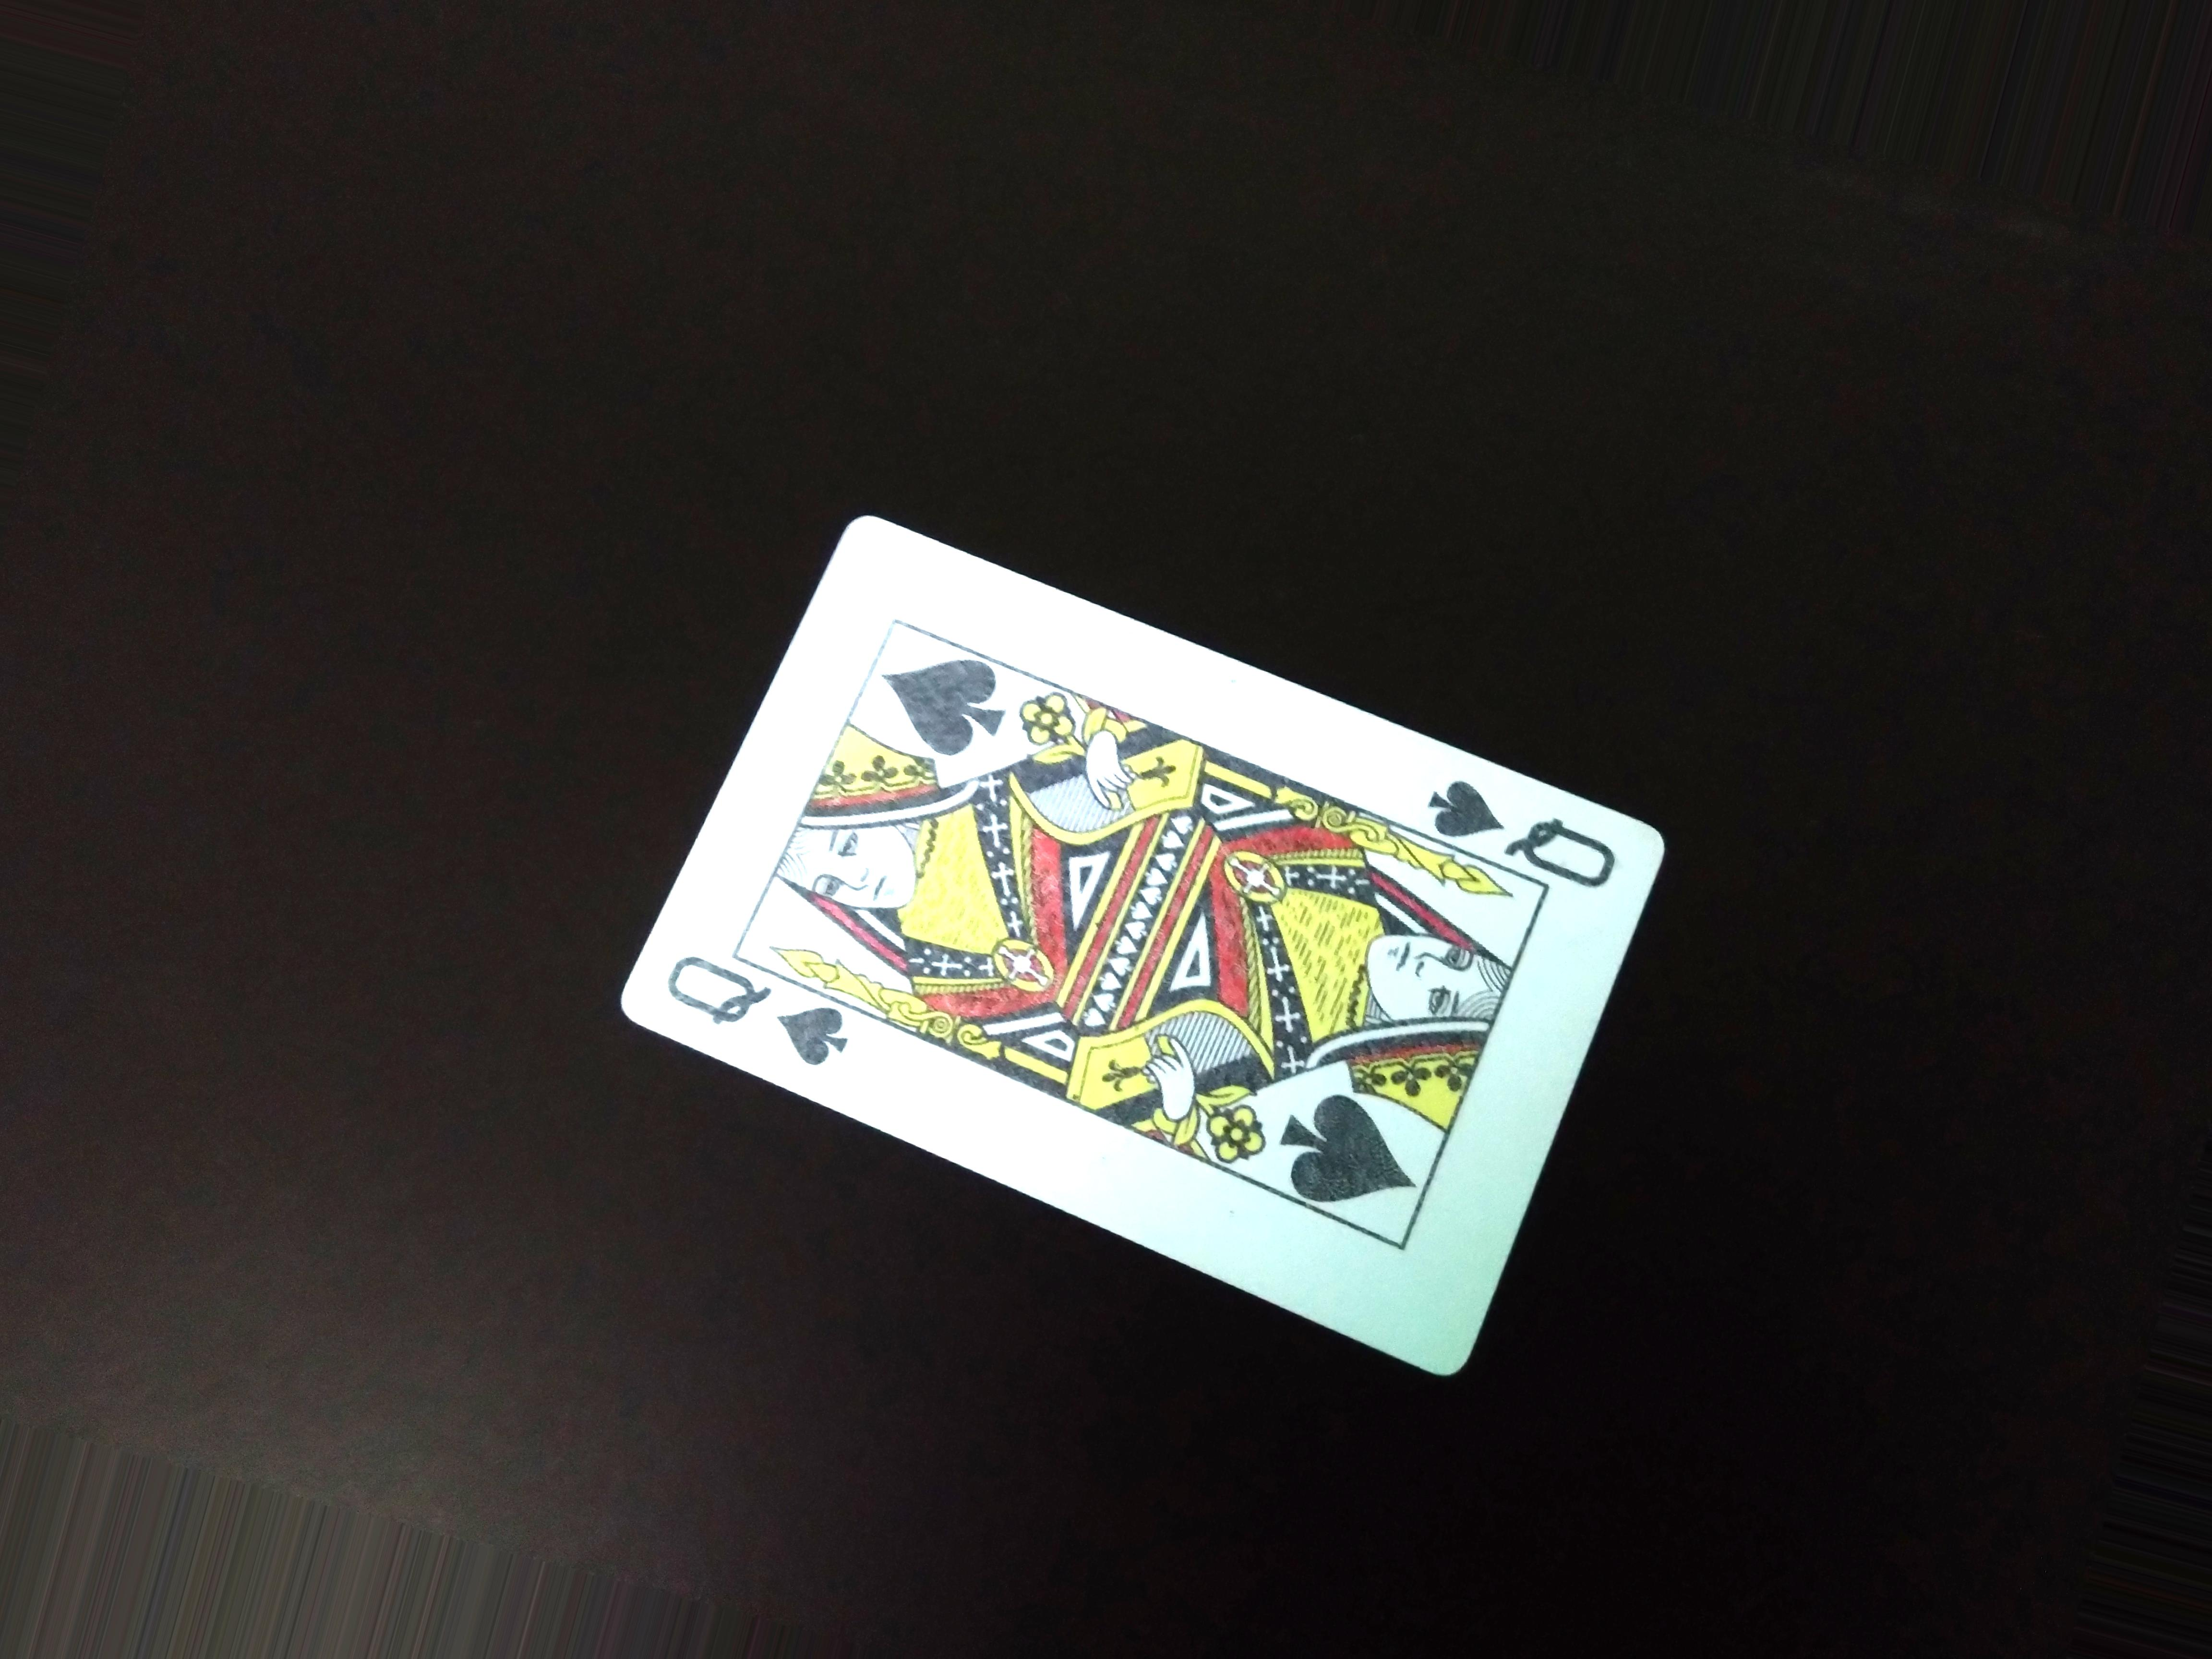QS: (644, 936, 864, 1070)
